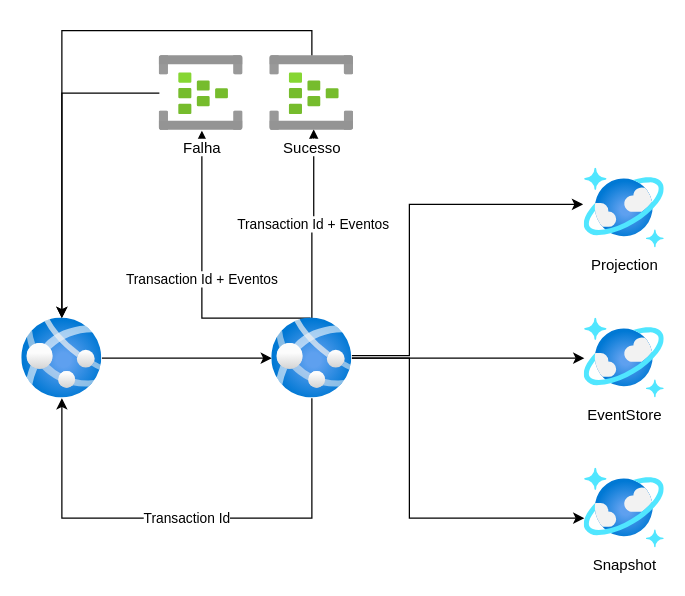
Image size: 685x596. Some labels were removed from this diagram. The shapes that lost their labels are listed below. From the top down, each one's centre as x and y in pixels, then its label:
At point 61,358: "Vendas".
At point 311,358: "Microservico".
